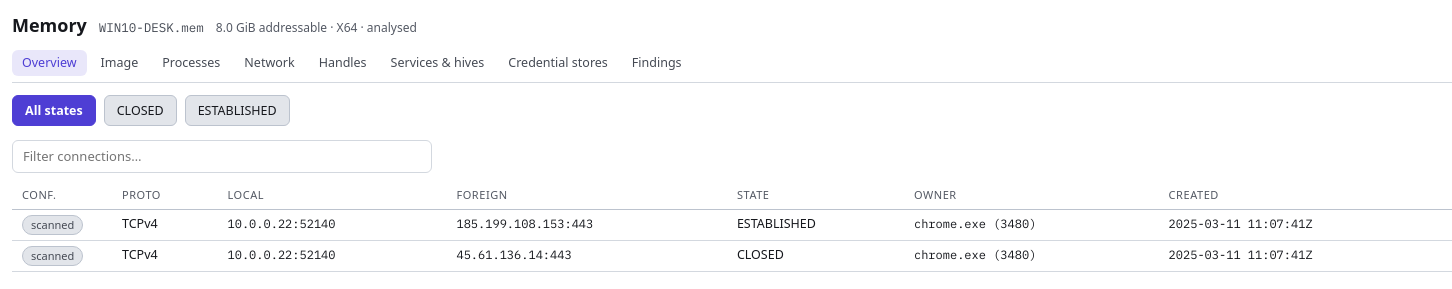
Test: MemoryNetworkPage › keeps a state filter in the address so a filtered view can be cited
The image size is (1452, 289).
Click the button "CLOSED" at (140, 111), box [104,95,177,126]
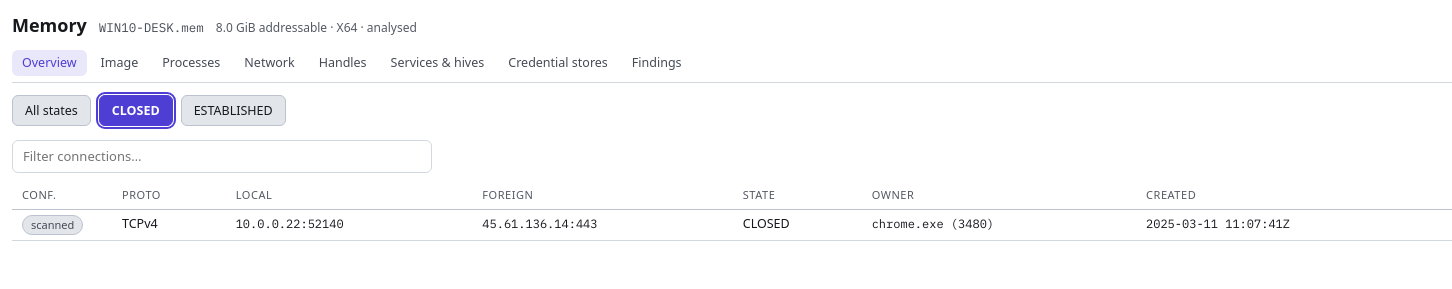
Expected: the text "45.61.136.14:443" is shown, [472,210,733,240]
Now the text "185.199.108.153:443" is gone
